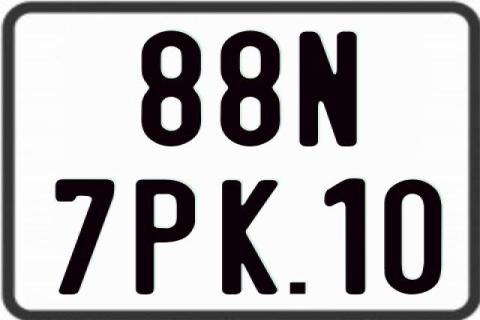0: (140, 30, 206, 150), (52, 178, 117, 294), (383, 177, 443, 296), (217, 30, 278, 146), (323, 177, 367, 293)
K: (221, 179, 282, 299)
N: (297, 30, 356, 150)
P: (133, 177, 195, 295)
